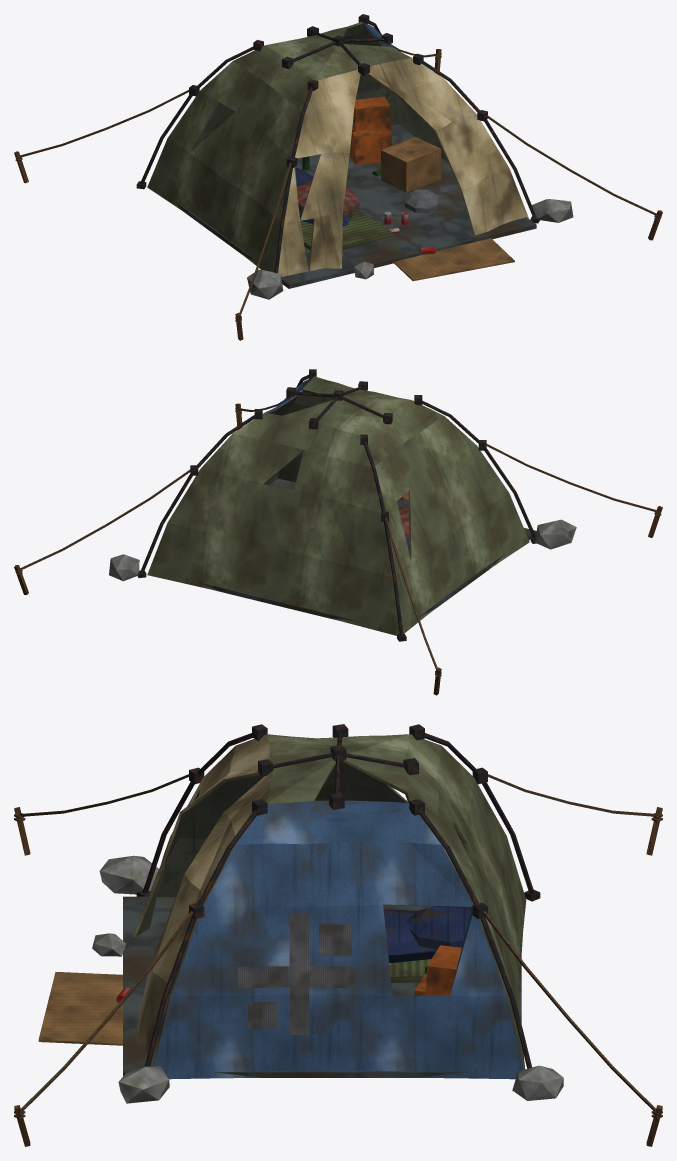
File: abandoned_tent.glb
3 renders of one model, top to bottom at view 1: azimuth 30°, elevation 25°; view 2: azimuth 150°, elevation 25°; view 3: azimuth 270°, elevation 25°, orthographic. The views are drawn at different scales.
Parts seen in each view (by area): view 1: Tent_Canvas, Tent_Floor, Tent_Props, Tent_Poles, Tent_Bedding, Tent_Rocks, Tent_Ropes, Tent_Stakes; view 2: Tent_Canvas, Tent_Poles, Tent_Ropes, Tent_Rocks, Tent_Floor, Tent_Stakes; view 3: Tent_Canvas, Tent_Poles, Tent_Props, Tent_Floor, Tent_Tape, Tent_Rocks, Tent_Bedding, Tent_Ropes, Tent_Stakes.
Boxes of the visible parts, <box> form: Tent_Canvas: <box>147,21,528,276</box>; Tent_Floor: <box>171,124,536,288</box>; Tent_Props: <box>302,96,514,281</box>; Tent_Poles: <box>136,14,539,273</box>; Tent_Bedding: <box>295,167,438,249</box>; Tent_Rocks: <box>247,199,573,299</box>; Tent_Ropes: <box>15,45,660,322</box>; Tent_Stakes: <box>14,49,662,340</box>; Tent_Canvas: <box>147,376,529,635</box>; Tent_Poles: <box>137,369,536,641</box>; Tent_Ropes: <box>16,401,661,676</box>; Tent_Rocks: <box>109,519,576,581</box>; Tent_Floor: <box>197,478,536,621</box>; Tent_Stakes: <box>14,403,662,695</box>; Tent_Canvas: <box>133,734,526,1079</box>; Tent_Poles: <box>136,724,540,1068</box>; Tent_Props: <box>38,945,461,1045</box>; Tent_Floor: <box>123,896,521,1077</box>; Tent_Tape: <box>238,912,354,1034</box>; Tent_Rocks: <box>92,855,563,1103</box>; Tent_Bedding: <box>383,906,471,982</box>; Tent_Ropes: <box>14,774,662,1119</box>; Tent_Stakes: <box>14,807,662,1146</box>.
Size of the model in its own units: 4.4 by 1.72 by 4.
18 materials, 18 textured.
